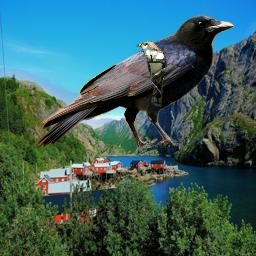Crow: (35, 13, 234, 148)
Cuckoo: (136, 41, 167, 107)
